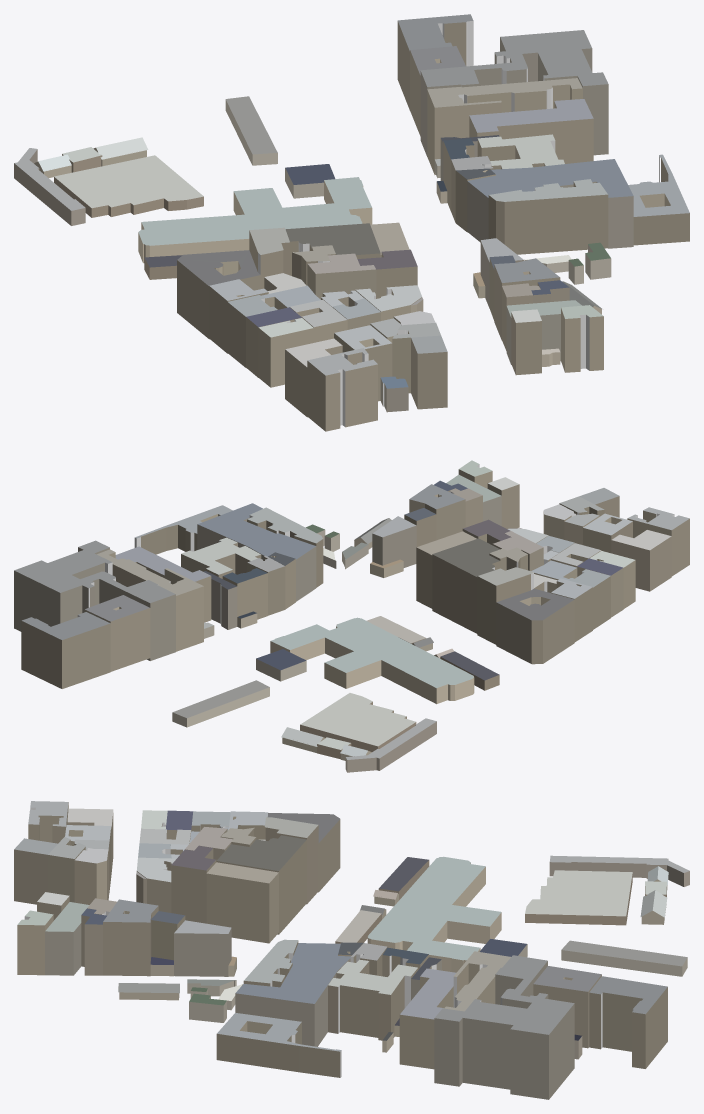
3 renders of one model, top to bottom at view 1: azimuth 30°, elevation 25°; view 2: azimuth 150°, elevation 25°; view 3: azimuth 270°, elevation 25°, orthographic. The views are drawn at different scales.
Parts seen in each view (by area): view 1: tuile; view 2: tuile; view 3: tuile.
Boxes of the visible parts, x1,y1,x2,y2 form: tuile: (14, 14, 689, 431); tuile: (14, 460, 689, 772); tuile: (14, 801, 689, 1099).
Bounding box in the file's own units: 230 × 30.9 × 270.
